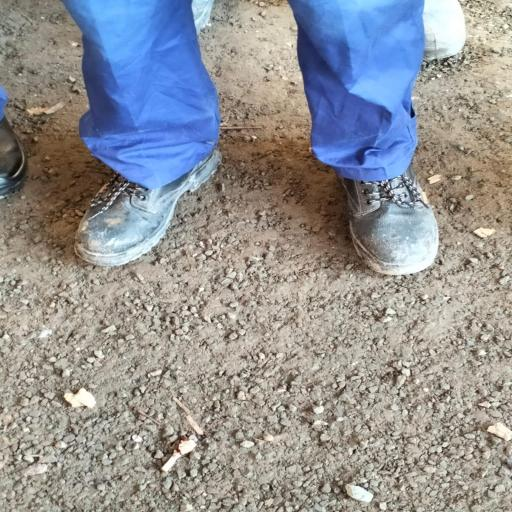safety_shoe: (63, 145, 226, 267), (348, 163, 452, 274)
